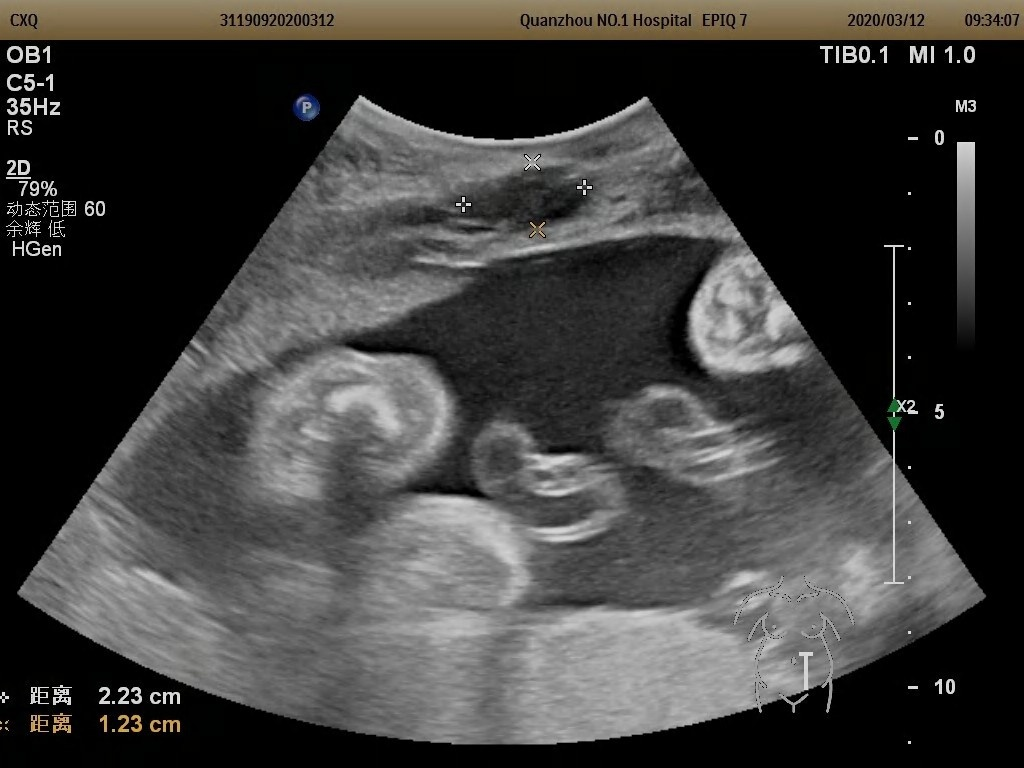肌瘤: (464, 163, 586, 231)
